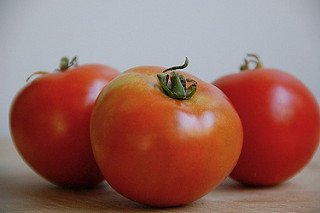tomato: (103, 68, 239, 213), (218, 62, 320, 192), (9, 59, 104, 190)
